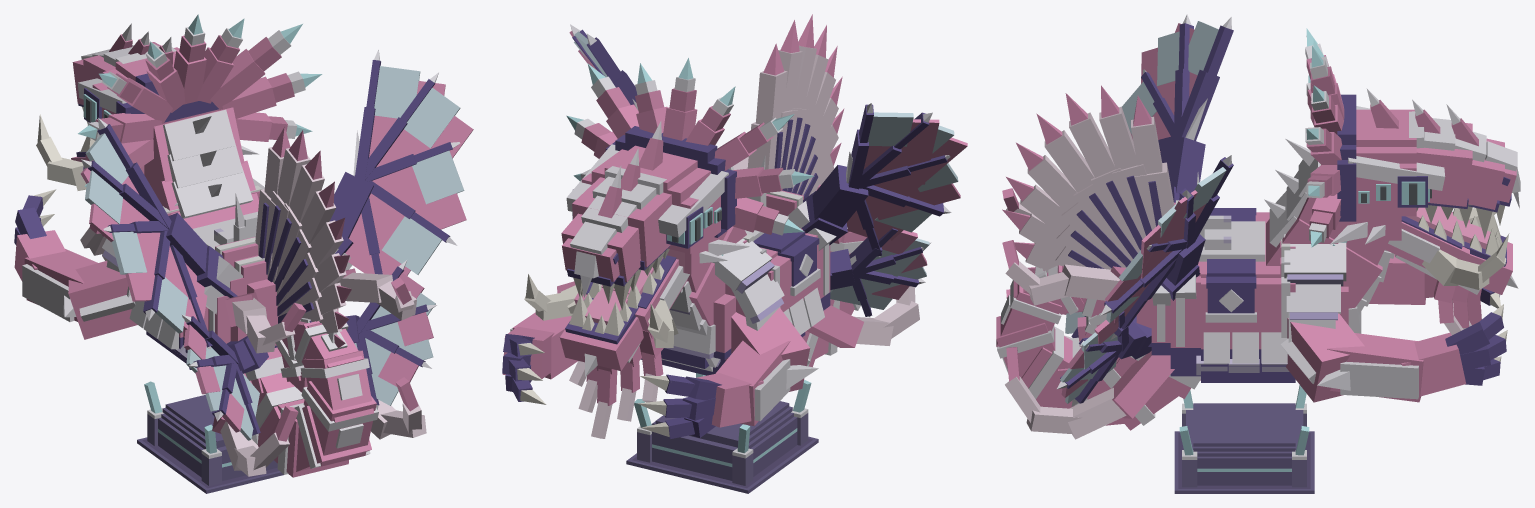
File: SeahorseRocker12.glb
The picture shows the model from 3 angles, left to right: view 1: azimuth 30°, elevation 25°; view 2: azimuth 150°, elevation 25°; view 3: azimuth 270°, elevation 25°; orthographic projection.
Visible parts, largest first — view 1: WingR, Head, WingL, Sail, Neck, ArmL, Body, Wing2R, Stand, Wing2L, TentL, TentR (+10 smaller); view 2: Head, WingL, Jaw, Body, ArmL, Sail, Stand, Wing2L, ArmR, TentL, Neck, Head_Glow (+2 smaller); view 3: Head, Body, Sail, ArmR, Stand, WingL, TentR, Jaw, WingR, Neck, Wing2R, ArmL (+8 smaller).
Part boxes in pixels (x1=…): WingR: x1=329, y1=49, x2=473, y2=275; Head: x1=72, y1=23, x2=305, y2=174; WingL: x1=80, y1=118, x2=242, y2=349; Sail: x1=255, y1=127, x2=351, y2=347; Neck: x1=144, y1=107, x2=258, y2=228; ArmL: x1=14, y1=189, x2=137, y2=339; Body: x1=102, y1=178, x2=338, y2=363; Wing2R: x1=345, y1=260, x2=437, y2=409; Stand: x1=137, y1=395, x2=283, y2=493; Wing2L: x1=182, y1=315, x2=268, y2=444; TentL: x1=212, y1=292, x2=306, y2=476; TentR: x1=336, y1=268, x2=426, y2=439; Head: x1=561, y1=76, x2=795, y2=309; WingL: x1=787, y1=103, x2=967, y2=257; Jaw: x1=524, y1=255, x2=689, y2=438; Body: x1=641, y1=155, x2=830, y2=375; ArmL: x1=637, y1=307, x2=818, y2=438; Sail: x1=747, y1=14, x2=844, y2=199; Stand: x1=626, y1=401, x2=818, y2=493; Wing2L: x1=830, y1=228, x2=931, y2=316; ArmR: x1=502, y1=281, x2=577, y2=404; TentL: x1=807, y1=231, x2=919, y2=347; Neck: x1=669, y1=226, x2=746, y2=335; Head_Glow: x1=566, y1=58, x2=814, y2=244; Head: x1=1305, y1=43, x2=1520, y2=244; Body: x1=1136, y1=172, x2=1361, y2=382; Sail: x1=1002, y1=85, x2=1174, y2=273; ArmR: x1=1281, y1=304, x2=1507, y2=402; Stand: x1=1174, y1=403, x2=1314, y2=493; WingL: x1=1122, y1=14, x2=1233, y2=202; TentR: x1=1002, y1=240, x2=1174, y2=439; Jaw: x1=1385, y1=206, x2=1518, y2=357; WingR: x1=1100, y1=155, x2=1233, y2=339; Neck: x1=1264, y1=139, x2=1394, y2=315; Wing2R: x1=1056, y1=311, x2=1151, y2=406; ArmL: x1=1369, y1=254, x2=1500, y2=308.
Bounding box in the file's own units: 47.35 × 48.85 × 55.42.
